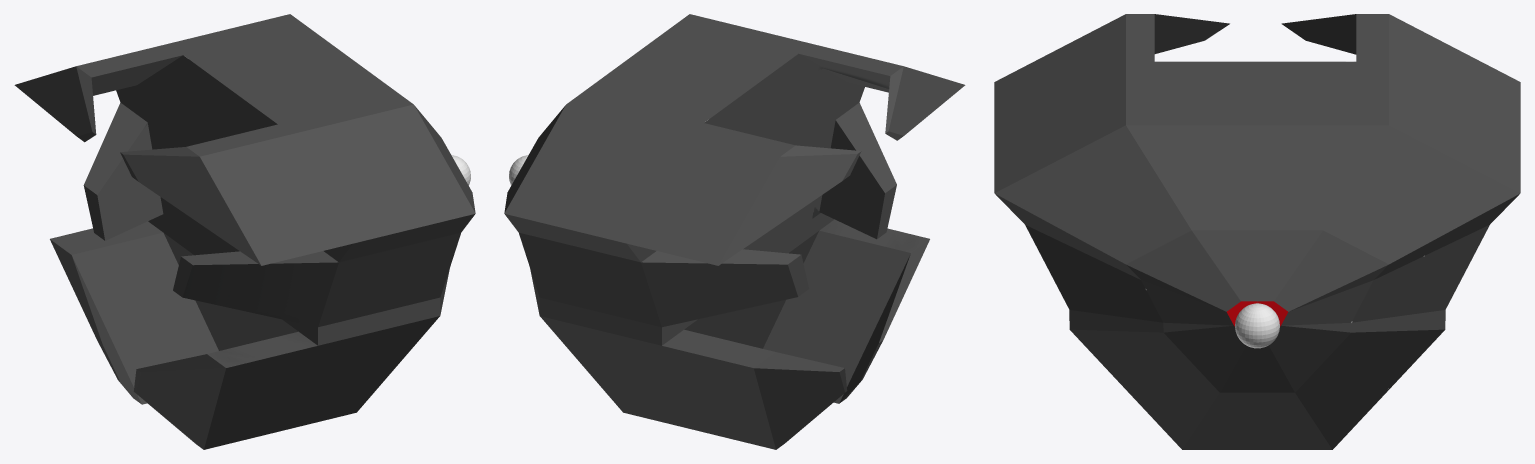
The model's file is NeonRoseRobot.fbx.
3 renders of one model, left to right at view 1: azimuth 30°, elevation 25°; view 2: azimuth 150°, elevation 25°; view 3: azimuth 270°, elevation 25°, orthographic. The views are drawn at different scales.
Visible parts, largest first — view 1: Body; view 2: Body; view 3: Body, Eye.
Part boxes in pixels (x1,y1,x2,y2): Body: (14,14,475,449); Body: (504,14,965,449); Body: (994,14,1520,449); Eye: (1235,303,1279,348).
Bounding box in the file's own units: 350 × 250 × 295.
